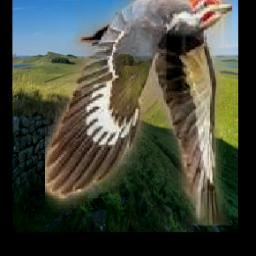Woodpecker: (45, 0, 232, 226)
